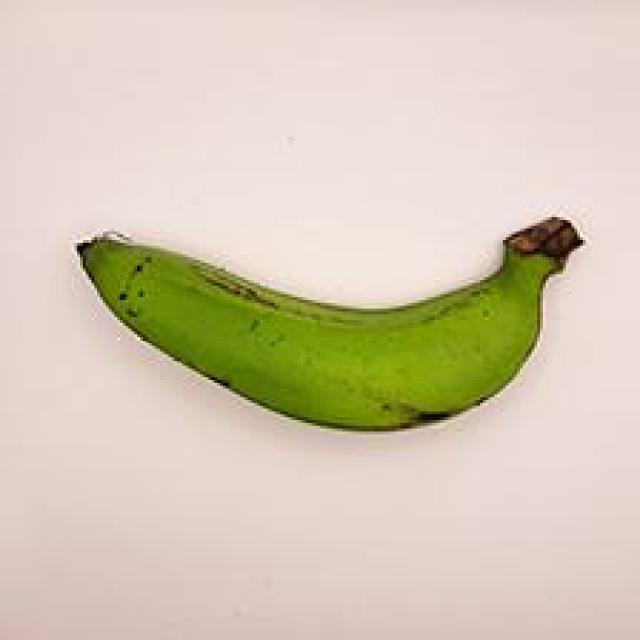Raw: (73, 187, 598, 454)
